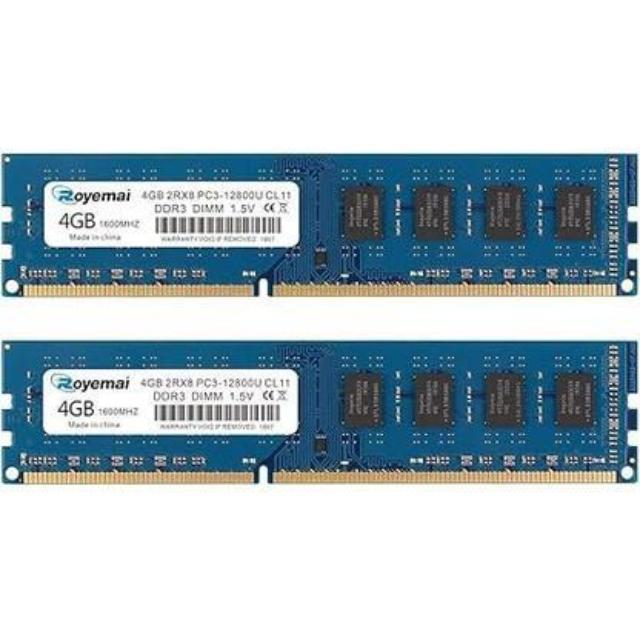RAM: (0, 141, 640, 321), (0, 330, 640, 496)
